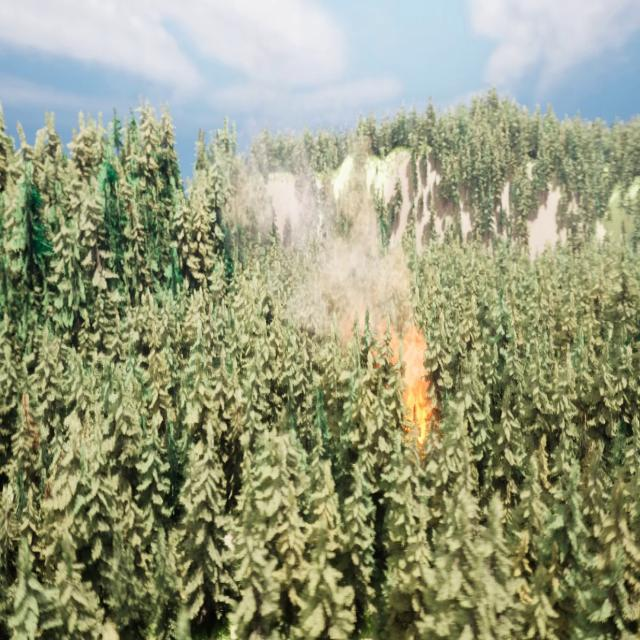fire: (400, 363, 434, 443)
smoke: (230, 128, 420, 397)
